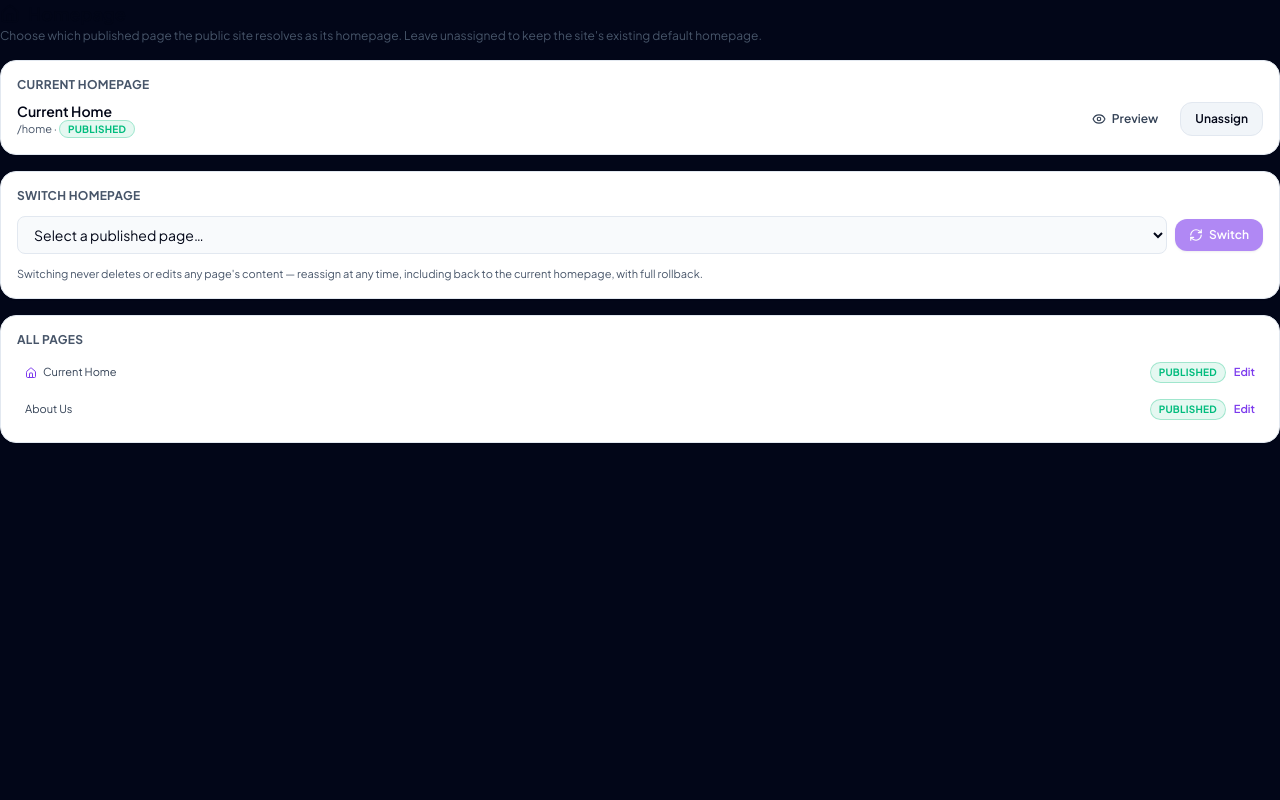
Test case: HomepageManagerPage › previews a page's rendered content without switching
Click the button "Preview".
click(1125, 119)  # box left=1078, top=102, right=1172, bottom=136
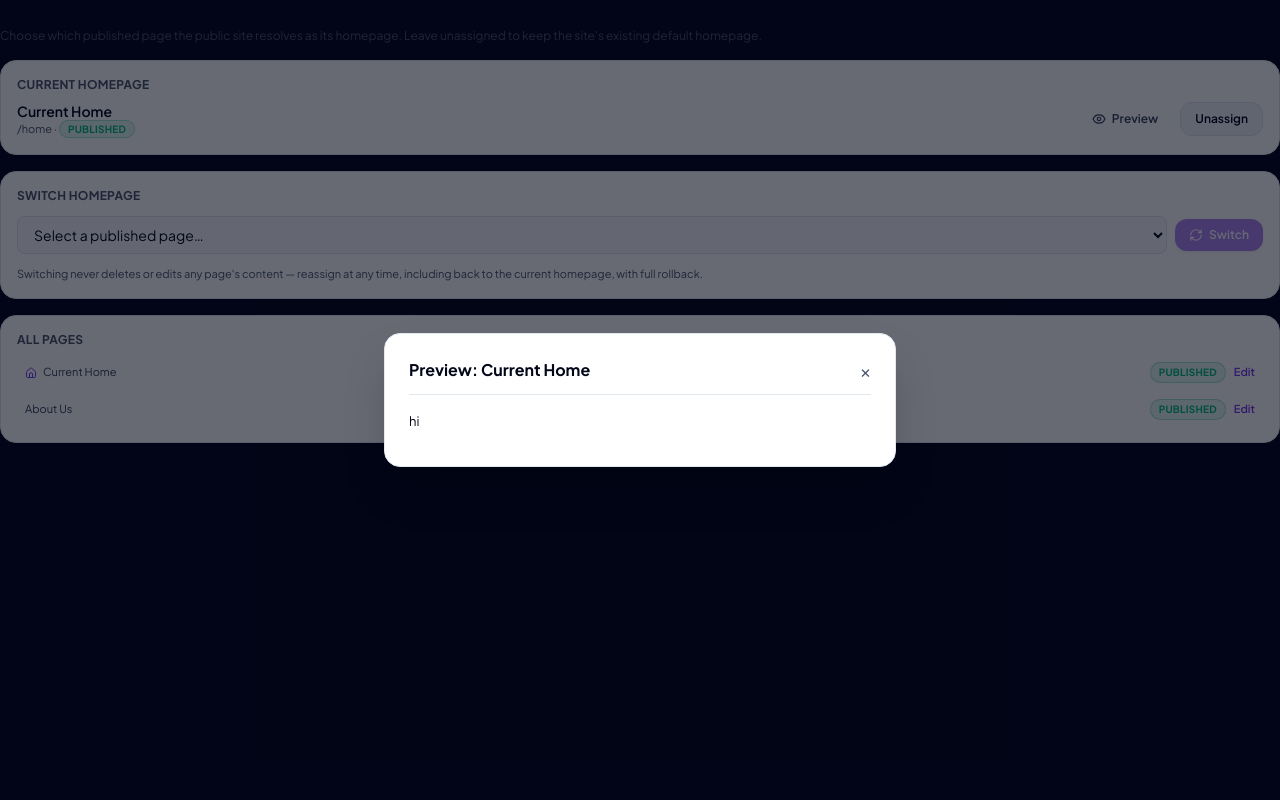
expect the text "hi" is shown: met, box left=409, top=413, right=419, bottom=429
